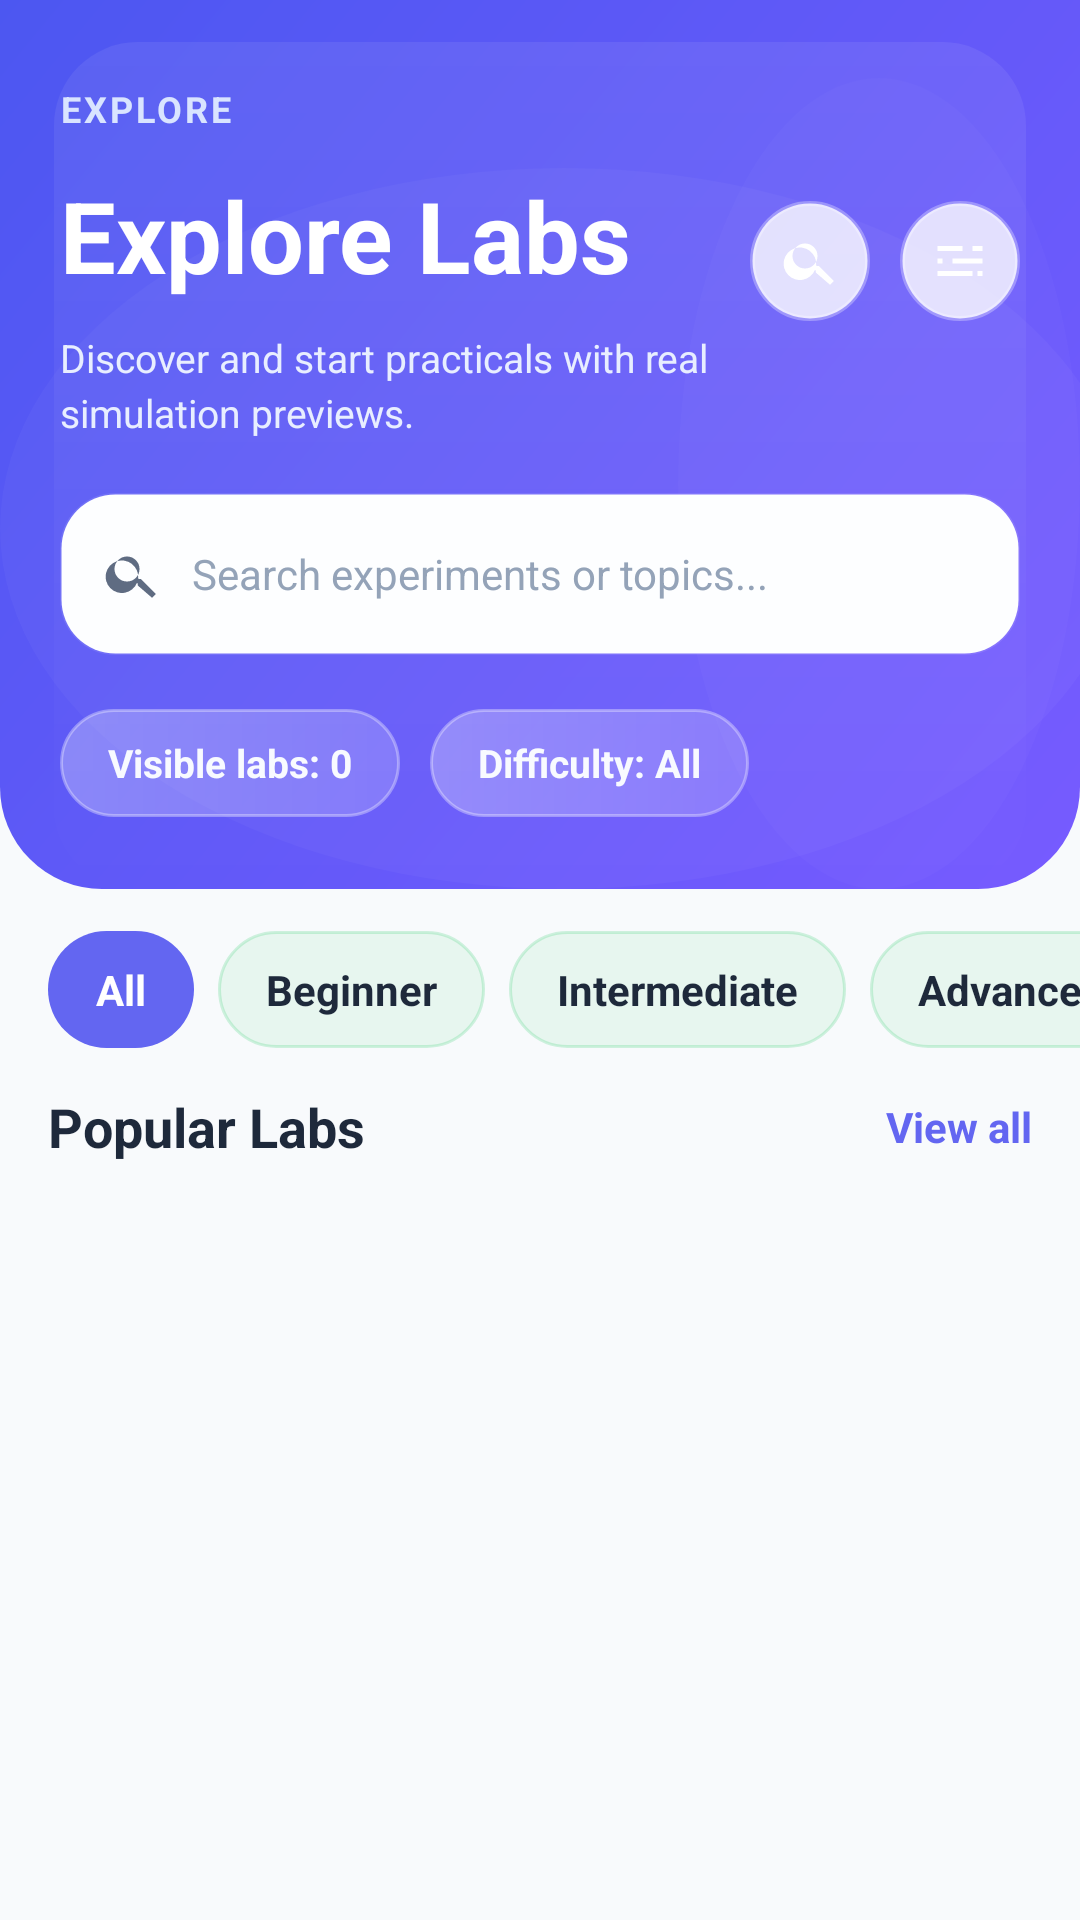

Named icons in this screenshot (1080*1920) and their bounding boxes, Rect(x1, y1, x2, y2):
filter: Rect(900, 201, 1020, 321)
